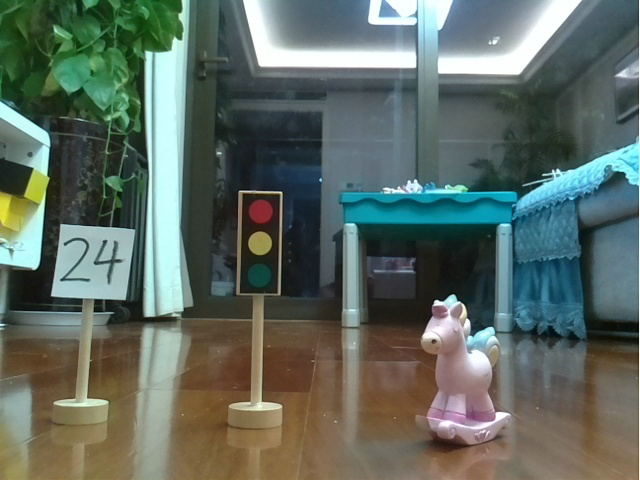Horse: (420, 282, 516, 448)
Red Traffic Light: (222, 181, 298, 437)
Speed Limit 24: (49, 218, 136, 428)
